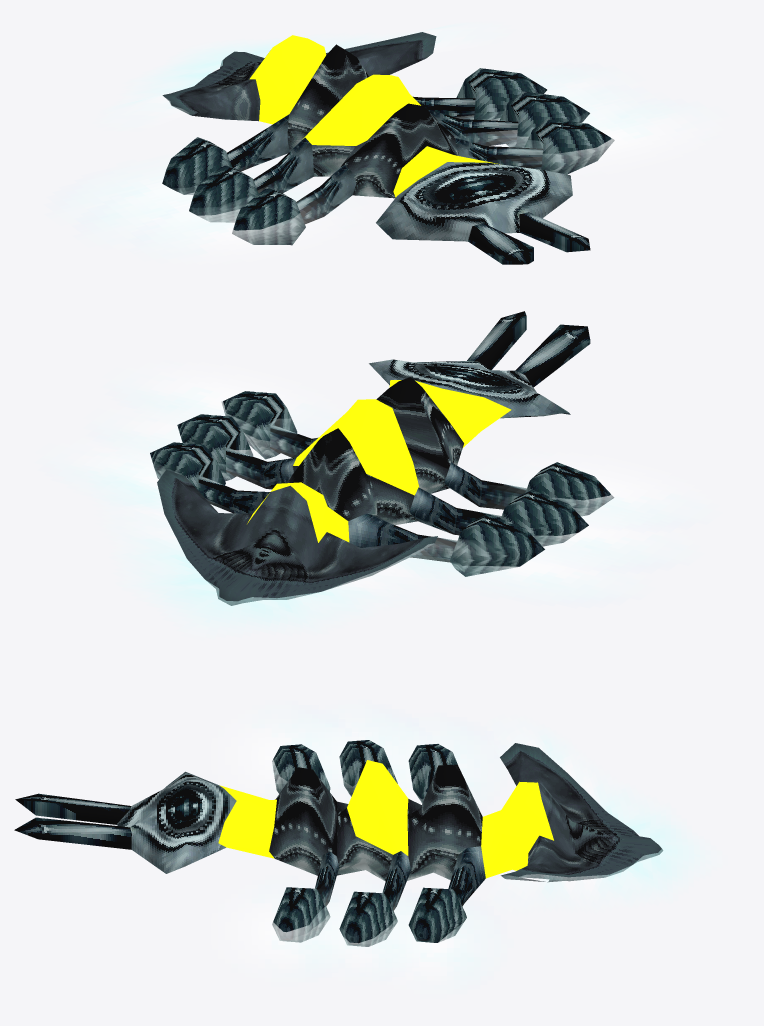
The model's file is sslegionare_cmp.gltf.
3 views of the same model, one above another, from view 1: azimuth 30°, elevation 25°; view 2: azimuth 150°, elevation 25°; view 3: azimuth 270°, elevation 25° (orthographic). The views are drawn at different scales.
Visible parts, largest first — view 1: Root, Stroop_beam; view 2: Root, Stroop_beam; view 3: Root, Stroop_beam.
Boxes of the visible parts, x1,y1,x2,y2 form: Root: (77, 26, 698, 264); Stroop_beam: (247, 35, 499, 216); Root: (68, 311, 687, 629); Stroop_beam: (234, 377, 511, 557); Root: (14, 715, 710, 980); Stroop_beam: (218, 760, 541, 905).
Size of the model in its own units: 27.24 by 4.19 by 26.
9 materials, 9 textured.
